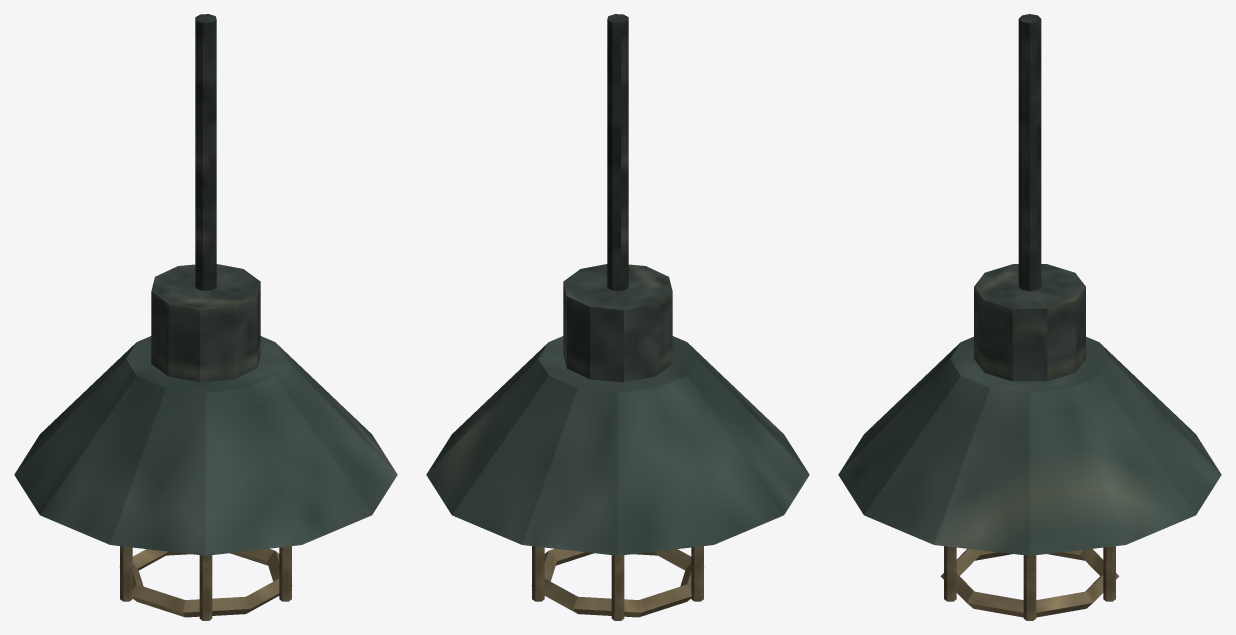
File: SH_POC_CagedLamp.fbx
3 renders of one model, left to right at view 1: azimuth 30°, elevation 25°; view 2: azimuth 150°, elevation 25°; view 3: azimuth 270°, elevation 25°, orthographic.
Visible parts, largest first — view 1: SH_POC_CagedLamp; view 2: SH_POC_CagedLamp; view 3: SH_POC_CagedLamp.
Part boxes in pixels (x1,y1,x2,y2): SH_POC_CagedLamp: (14, 14, 397, 620); SH_POC_CagedLamp: (426, 14, 809, 620); SH_POC_CagedLamp: (838, 14, 1221, 620).
Bounding box in the file's own units: 0.48 × 0.782 × 0.48.
1 material, 1 textured.
